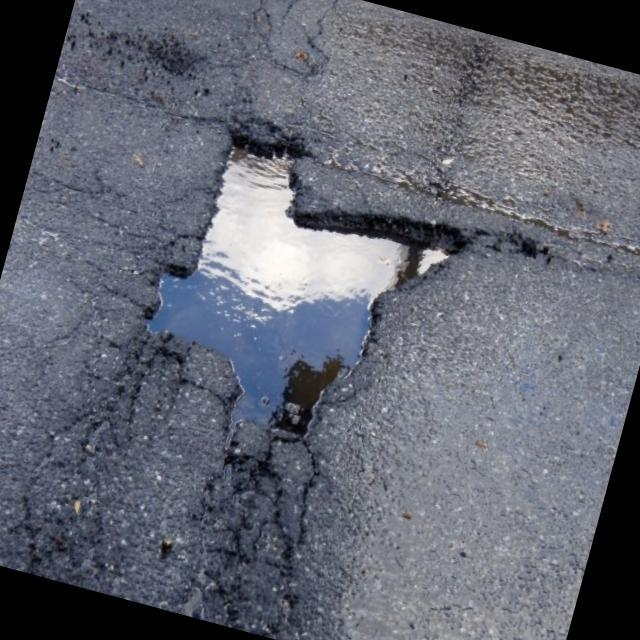Pothole: (138, 102, 490, 496)
